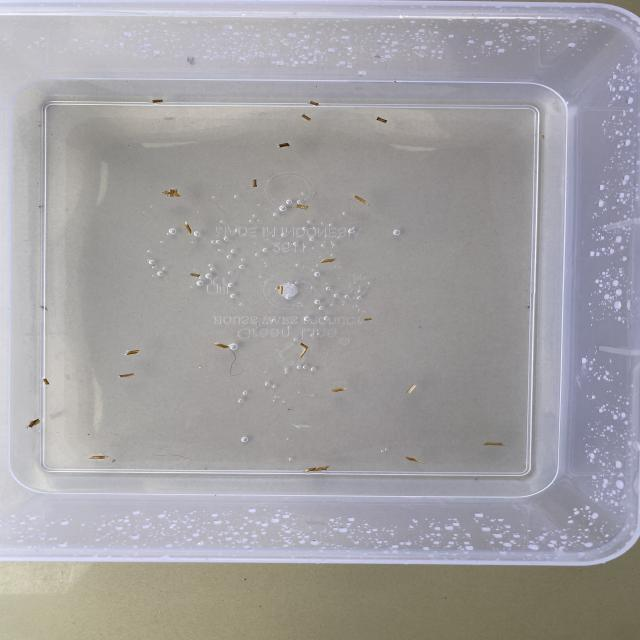Wereng: (348, 191, 373, 207), (303, 464, 331, 474), (26, 415, 42, 432), (212, 342, 235, 352), (404, 381, 419, 396), (182, 220, 196, 234), (117, 372, 138, 381), (296, 113, 316, 122), (300, 340, 310, 358), (404, 457, 428, 464), (318, 257, 338, 265), (190, 269, 204, 280), (162, 189, 183, 196), (272, 142, 294, 148), (275, 282, 284, 296), (374, 116, 389, 124), (40, 378, 55, 386), (327, 387, 350, 392), (306, 100, 322, 107), (362, 316, 378, 323), (83, 456, 111, 460), (484, 441, 506, 446), (151, 98, 169, 104), (124, 349, 142, 355), (250, 178, 260, 188), (296, 204, 310, 210)
